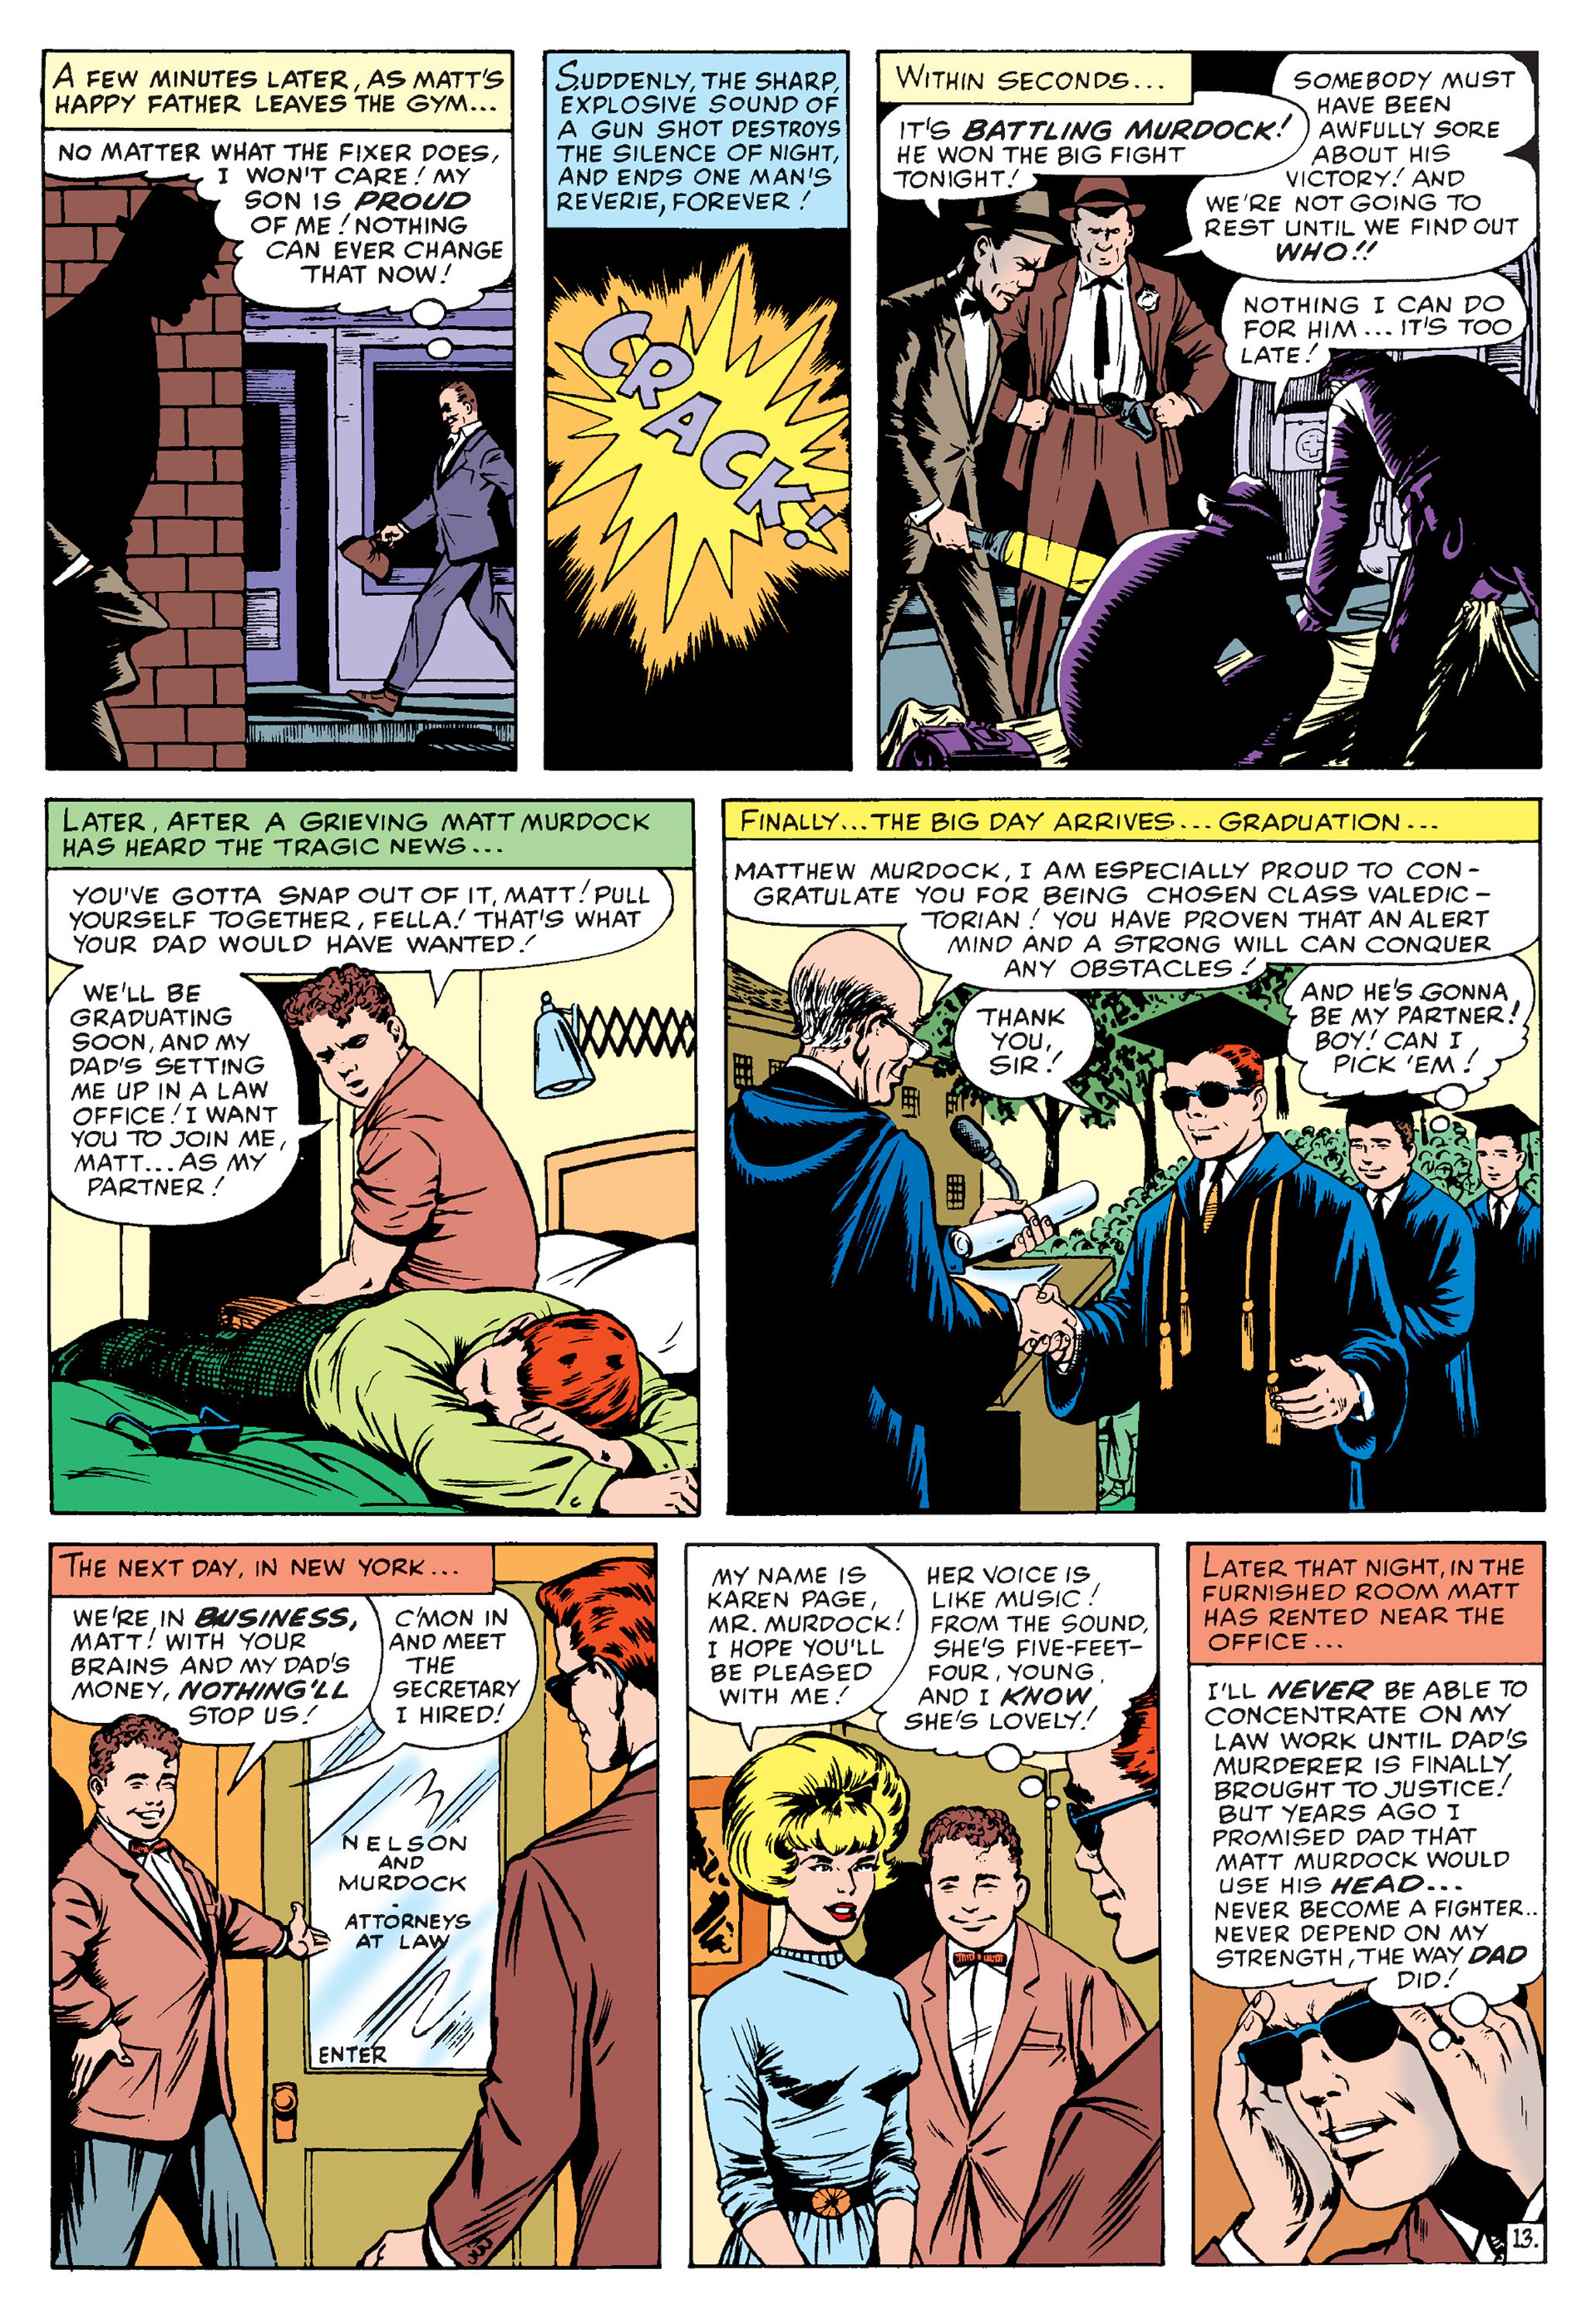Baloon: (1186, 1653, 1552, 2026), (731, 844, 1547, 992), (44, 127, 517, 334), (1201, 62, 1536, 283), (41, 865, 676, 980), (51, 970, 327, 1219), (51, 1591, 390, 1775), (897, 1542, 1160, 1761), (546, 51, 854, 226), (690, 1547, 922, 1743), (1284, 952, 1532, 1132), (886, 95, 1308, 196), (1190, 1547, 1540, 1656), (1222, 272, 1532, 392), (41, 51, 510, 127), (48, 796, 690, 849), (724, 804, 1540, 844), (369, 1591, 535, 1761), (51, 1542, 498, 1598), (955, 977, 1098, 1118), (870, 51, 1193, 106)
Vignetta: (724, 804, 1547, 1508), (44, 789, 710, 1522), (870, 51, 1536, 766), (55, 1547, 662, 2260), (683, 1536, 1163, 2271), (37, 51, 517, 779), (1193, 1542, 1554, 2260), (542, 48, 846, 766)
